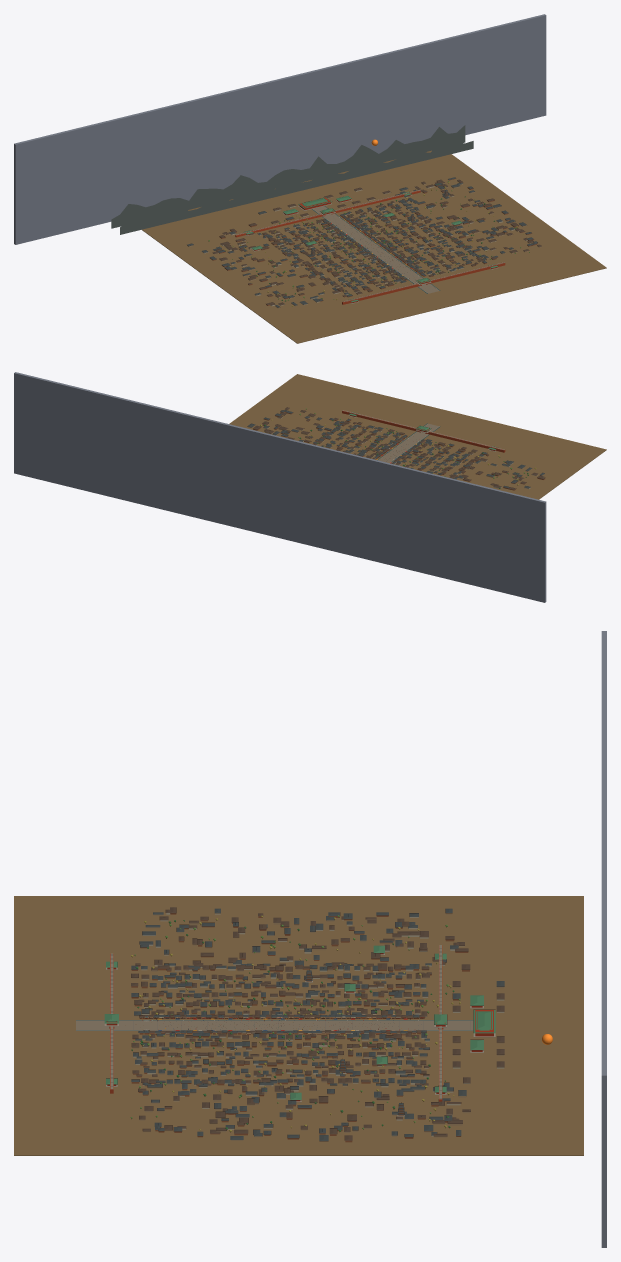
Rendered from tang-changan-v5.glb.
3 views of the same model, one above another, from view 1: azimuth 30°, elevation 25°; view 2: azimuth 150°, elevation 25°; view 3: azimuth 270°, elevation 25° (orthographic). The views are drawn at different scales.
Parts seen in each view (by area): view 1: Tang_Changan_Web; view 2: Tang_Changan_Web; view 3: Tang_Changan_Web.
Part boxes in pixels (x1,y1,x2,y2): Tang_Changan_Web: [14, 14, 606, 343]; Tang_Changan_Web: [14, 372, 606, 602]; Tang_Changan_Web: [14, 631, 606, 1247].
Bounding box in the file's own units: 7200 × 1306 × 4058.
